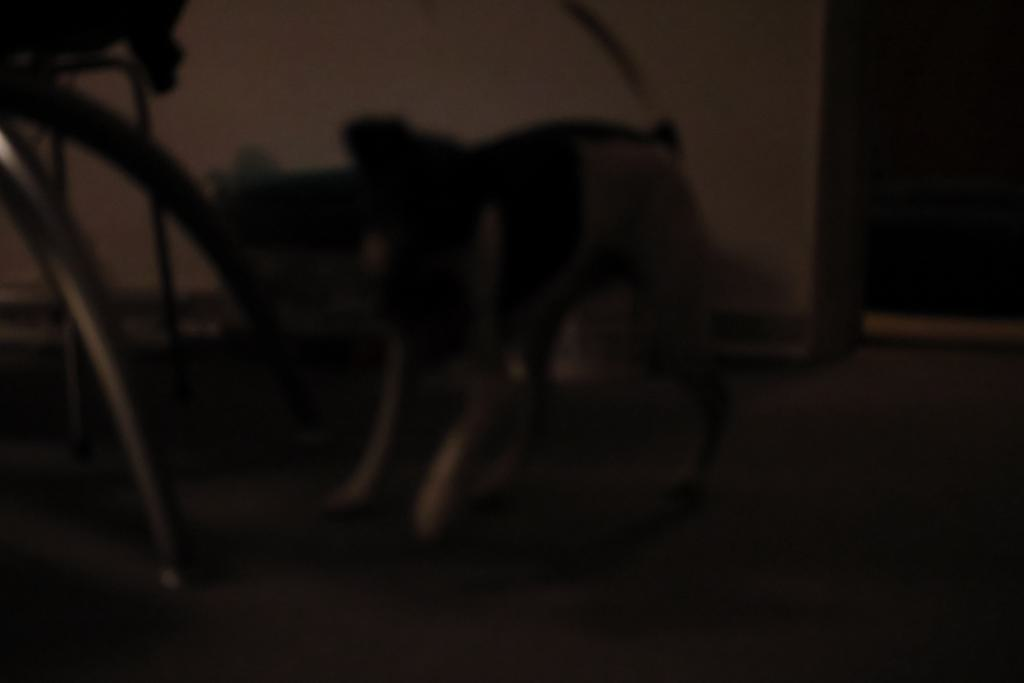Dog: (290, 0, 762, 559)
